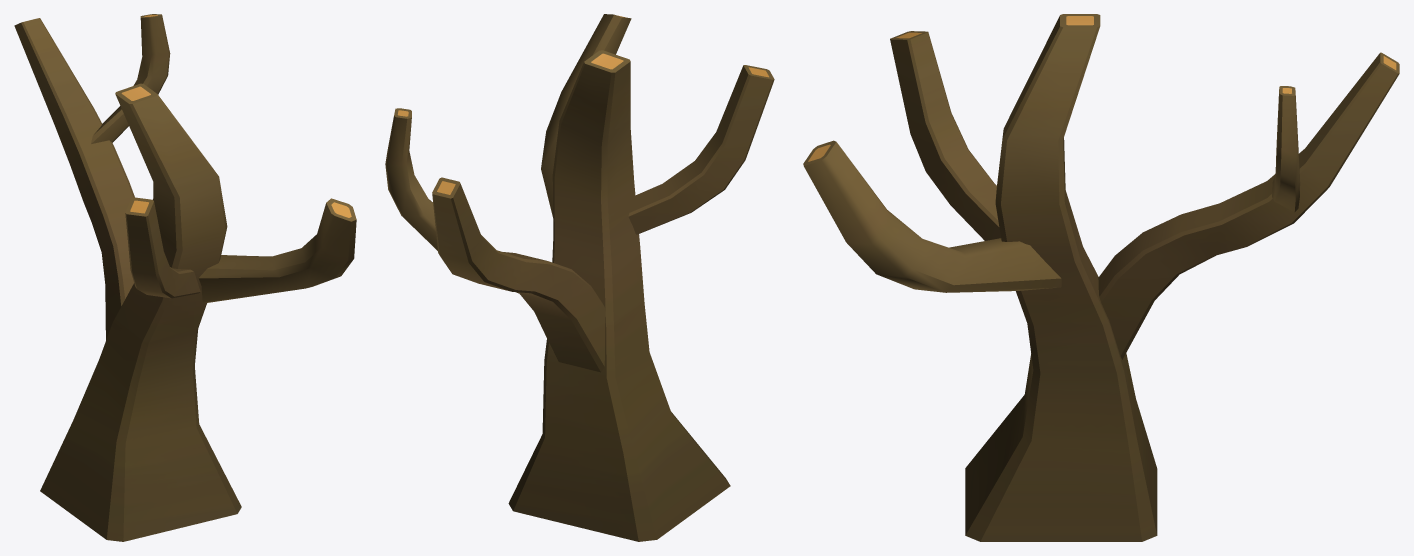
Rendered from Tree_D_8.fbx.
3 renders of one model, left to right at view 1: azimuth 30°, elevation 25°; view 2: azimuth 150°, elevation 25°; view 3: azimuth 270°, elevation 25°, orthographic. The views are drawn at different scales.
Visible parts, largest first — view 1: Tree_D_8; view 2: Tree_D_8; view 3: Tree_D_8.
Part boxes in pixels (x1,y1,x2,y2): Tree_D_8: (14, 14, 356, 541); Tree_D_8: (385, 14, 774, 541); Tree_D_8: (803, 14, 1399, 541).
Bounding box in the file's own units: 187 × 345 × 385.
